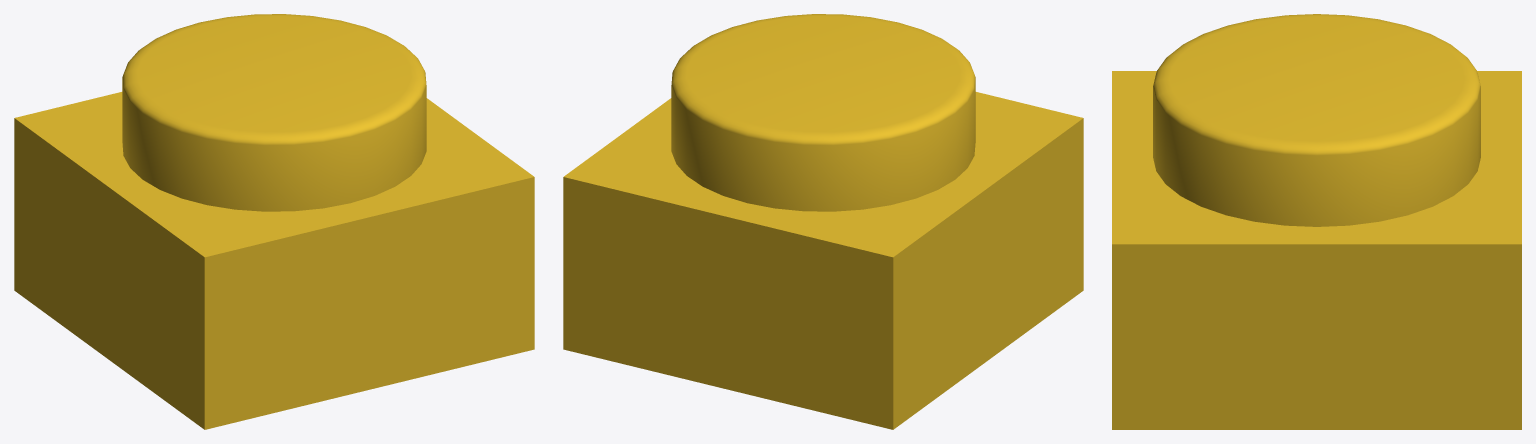
The picture shows the model from 3 angles, left to right: view 1: azimuth 30°, elevation 25°; view 2: azimuth 150°, elevation 25°; view 3: azimuth 270°, elevation 25°; orthographic projection. The views are drawn at different scales.
Parts seen in each view (by area): view 1: 乐高基础版模型.001; view 2: 乐高基础版模型.001; view 3: 乐高基础版模型.001.
Part boxes in pixels (bbox=[...]): 乐高基础版模型.001: bbox=[14, 14, 534, 429]; 乐高基础版模型.001: bbox=[563, 14, 1083, 429]; 乐高基础版模型.001: bbox=[1112, 14, 1521, 429].
Size of what is drawn, in the model's own units: 2 by 1.42 by 2.
